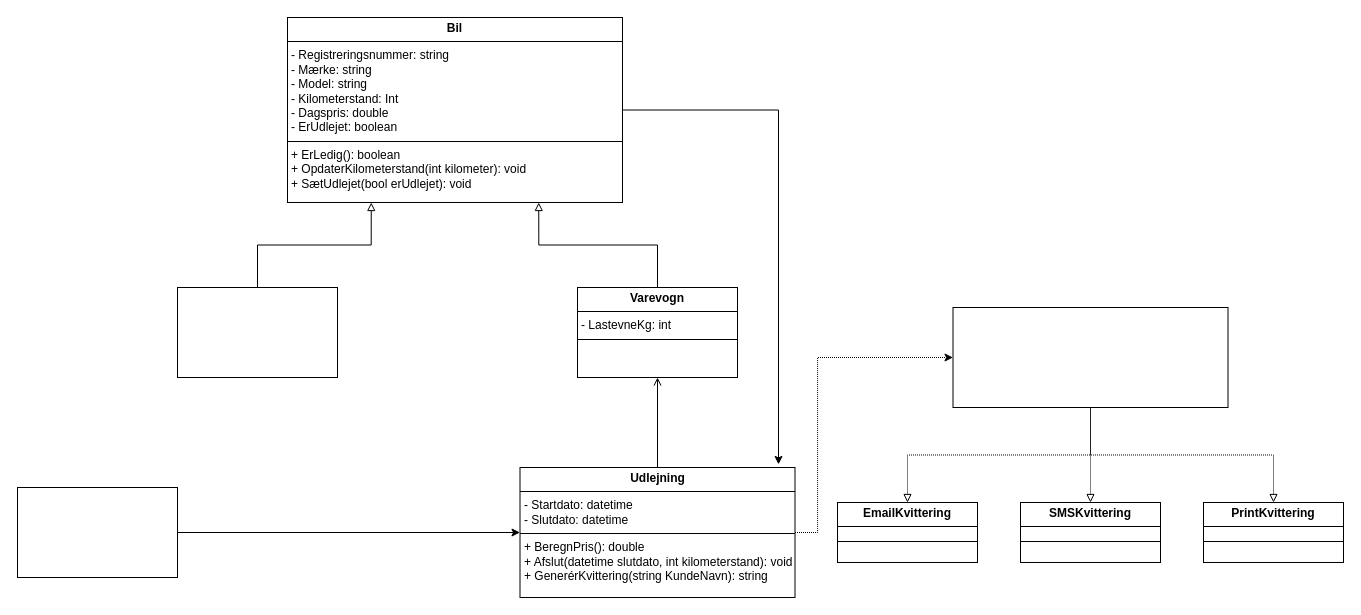
Some shapes in this 1361 by 615 pixel diagram are drawn without their labels. The centre of each missing label's shape, as x and y in pixels:
"<<Interface>> IKvitteringsAfsender + SendKvittering(string teskt): void" goes at (x=1090, y=357).
"Kunde - Navn; string - Kørekortnummer: string - Telefonnummer: int" goes at (x=97, y=532).
"Personbil - AntalSæder: int" goes at (x=257, y=332).
